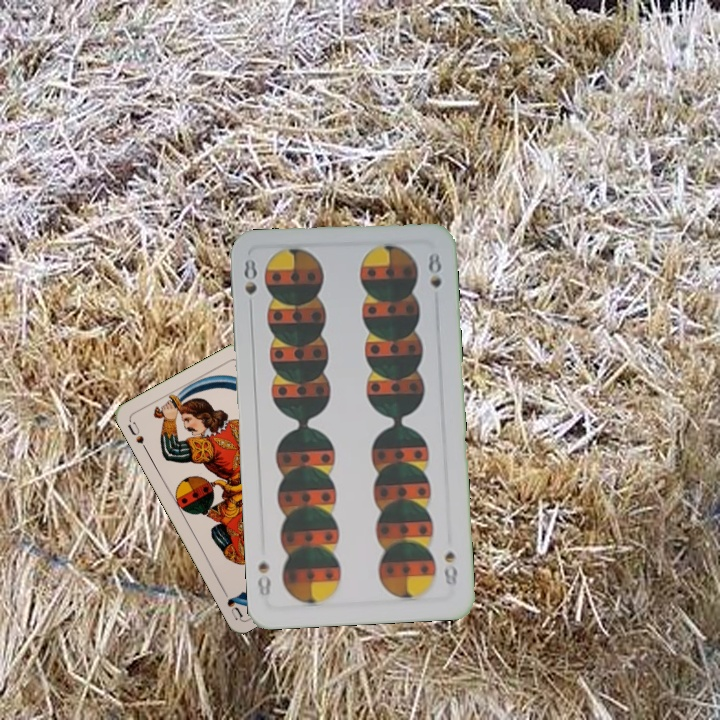S8: (239, 254, 259, 314), (439, 546, 460, 589)
SU: (124, 416, 150, 454)
